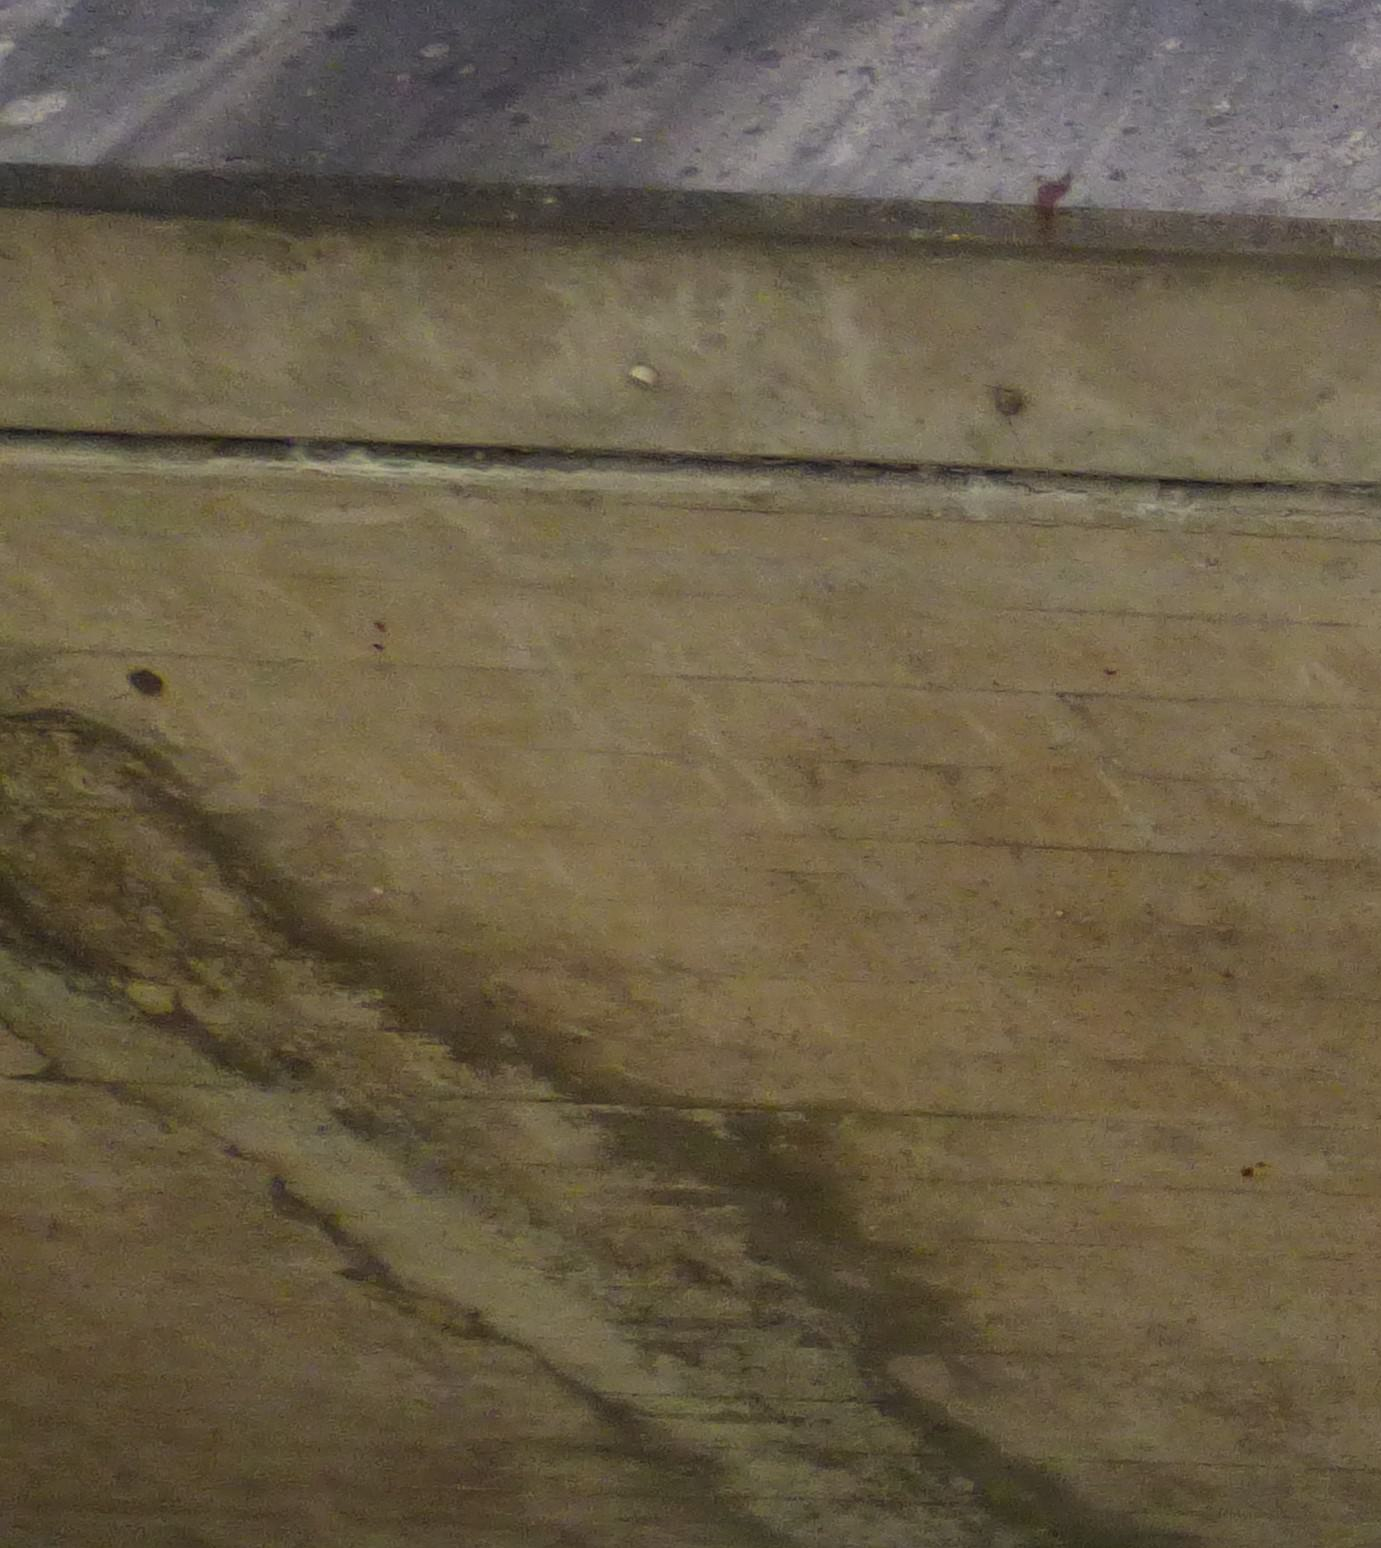Corrosion: (1, 705, 1122, 1548)
